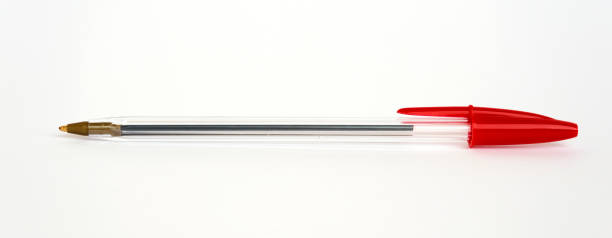pen: (52, 101, 582, 160)
